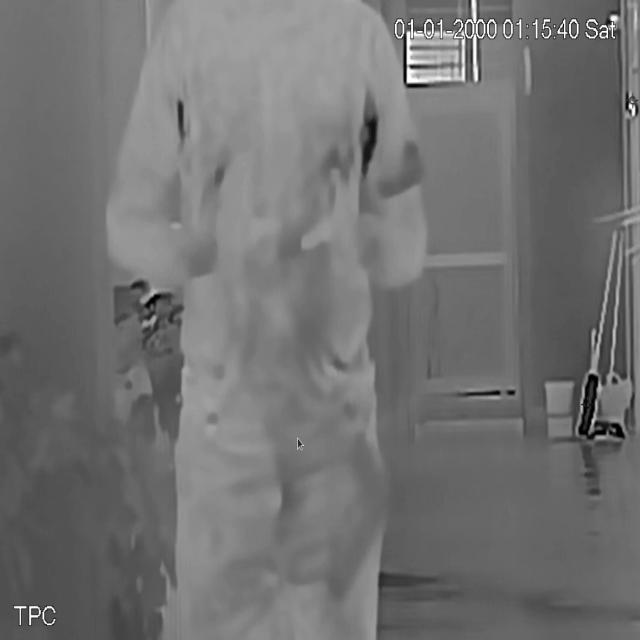Weapon: (323, 432, 396, 602)
